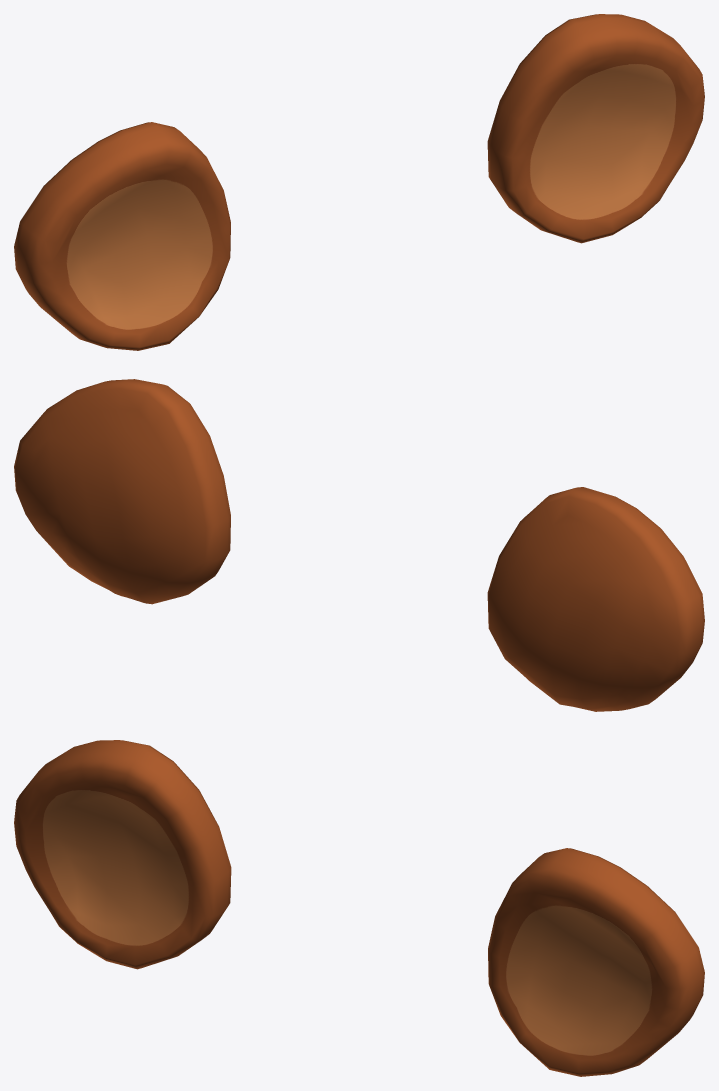
Rendered from importerSkin02_ear.fbx.
3 renders of one model, top to bottom at view 1: azimuth 30°, elevation 25°; view 2: azimuth 150°, elevation 25°; view 3: azimuth 330°, elevation 25°, orthographic.
Parts seen in each view (by area): view 1: importerSkin02_ear_geo; view 2: importerSkin02_ear_geo; view 3: importerSkin02_ear_geo.
Part boxes in pixels (<box>): importerSkin02_ear_geo: <box>14,14,704,350</box>; importerSkin02_ear_geo: <box>14,379,704,711</box>; importerSkin02_ear_geo: <box>14,740,704,1076</box>.
Bounding box in the file's own units: 2.79 × 0.8455 × 0.3086.
1 material, 1 textured.
